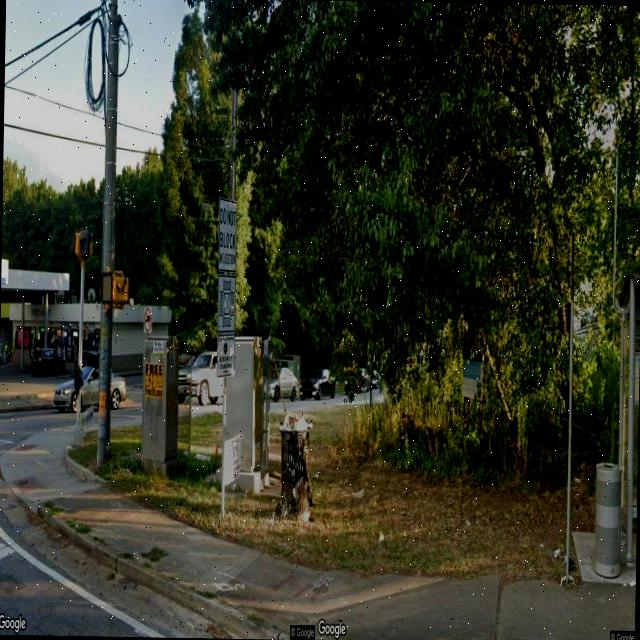shelter: (612, 268, 640, 566)
trash_can: (276, 414, 314, 528), (592, 461, 622, 580)
